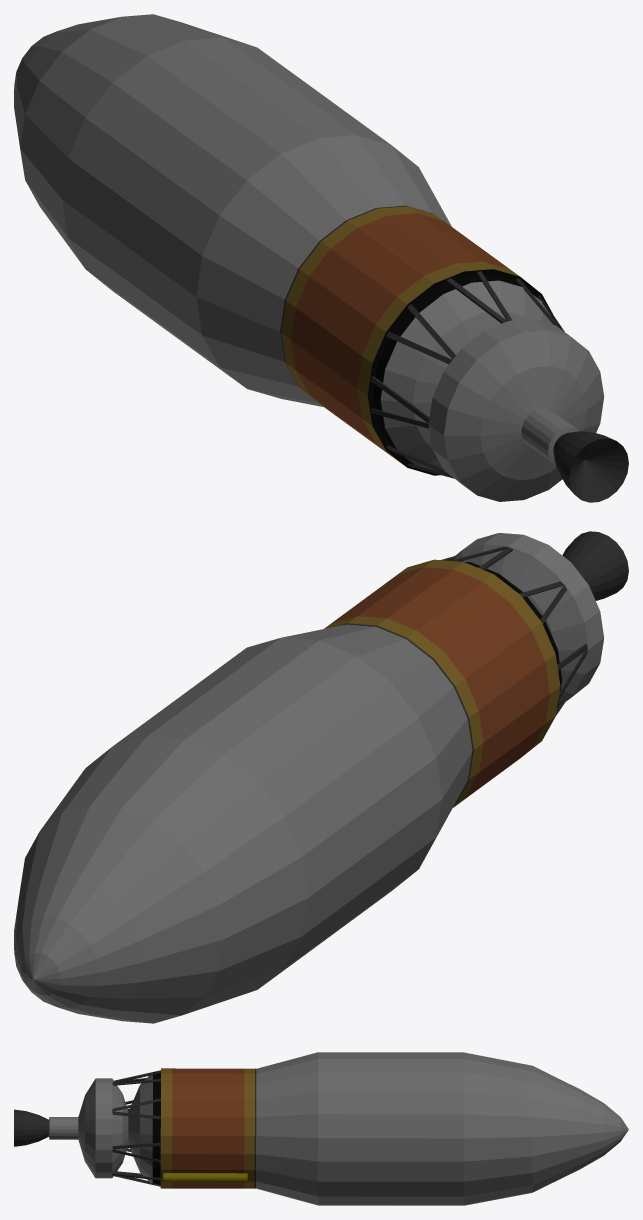
3 renders of one model, top to bottom at view 1: azimuth 30°, elevation 25°; view 2: azimuth 150°, elevation 25°; view 3: azimuth 270°, elevation 25°, orthographic. The views are drawn at different scales.
Visible parts, largest first — view 1: ShapeIndexedFaceSet.008_ShapeIndexedFaceSet.009, ShapeIndexedFaceSet.001_ShapeIndexedFaceSet.002, ShapeIndexedFaceSet.004_ShapeIndexedFaceSet.005, ShapeIndexedFaceSet.007_ShapeIndexedFaceSet.008, ShapeIndexedFaceSet.002_ShapeIndexedFaceSet.003, ShapeIndexedFaceSet.003_ShapeIndexedFaceSet.004, ShapeIndexedFaceSet_ShapeIndexedFaceSet.001; view 2: ShapeIndexedFaceSet.008_ShapeIndexedFaceSet.009, ShapeIndexedFaceSet.007_ShapeIndexedFaceSet.008, ShapeIndexedFaceSet.004_ShapeIndexedFaceSet.005, ShapeIndexedFaceSet.001_ShapeIndexedFaceSet.002, ShapeIndexedFaceSet.003_ShapeIndexedFaceSet.004, ShapeIndexedFaceSet.002_ShapeIndexedFaceSet.003; view 3: ShapeIndexedFaceSet.007_ShapeIndexedFaceSet.008, ShapeIndexedFaceSet.004_ShapeIndexedFaceSet.005, ShapeIndexedFaceSet.001_ShapeIndexedFaceSet.002, ShapeIndexedFaceSet.002_ShapeIndexedFaceSet.003, ShapeIndexedFaceSet.003_ShapeIndexedFaceSet.004, ShapeIndexedFaceSet.008_ShapeIndexedFaceSet.009, ShapeIndexedFaceSet.006_ShapeIndexedFaceSet.007, ShapeIndexedFaceSet_ShapeIndexedFaceSet.001.
Boxes of the visible parts, <box> form: ShapeIndexedFaceSet.008_ShapeIndexedFaceSet.009: <box>14,16,375,406</box>; ShapeIndexedFaceSet.001_ShapeIndexedFaceSet.002: <box>380,280,604,501</box>; ShapeIndexedFaceSet.004_ShapeIndexedFaceSet.005: <box>291,213,508,457</box>; ShapeIndexedFaceSet.007_ShapeIndexedFaceSet.008: <box>122,14,451,226</box>; ShapeIndexedFaceSet.002_ShapeIndexedFaceSet.003: <box>280,205,628,502</box>; ShapeIndexedFaceSet.003_ShapeIndexedFaceSet.004: <box>281,206,519,464</box>; ShapeIndexedFaceSet_ShapeIndexedFaceSet.001: <box>367,269,552,475</box>; ShapeIndexedFaceSet.008_ShapeIndexedFaceSet.009: <box>21,627,472,1023</box>; ShapeIndexedFaceSet.007_ShapeIndexedFaceSet.008: <box>14,624,375,1006</box>; ShapeIndexedFaceSet.004_ShapeIndexedFaceSet.005: <box>331,567,549,807</box>; ShapeIndexedFaceSet.001_ShapeIndexedFaceSet.002: <box>453,533,604,703</box>; ShapeIndexedFaceSet.003_ShapeIndexedFaceSet.004: <box>324,559,560,806</box>; ShapeIndexedFaceSet.002_ShapeIndexedFaceSet.003: <box>339,531,628,805</box>; ShapeIndexedFaceSet.007_ShapeIndexedFaceSet.008: <box>256,1059,620,1205</box>; ShapeIndexedFaceSet.004_ShapeIndexedFaceSet.005: <box>172,1068,244,1188</box>; ShapeIndexedFaceSet.001_ShapeIndexedFaceSet.002: <box>49,1072,152,1183</box>; ShapeIndexedFaceSet.002_ShapeIndexedFaceSet.003: <box>14,1068,256,1188</box>; ShapeIndexedFaceSet.003_ShapeIndexedFaceSet.004: <box>160,1068,254,1188</box>; ShapeIndexedFaceSet.008_ShapeIndexedFaceSet.009: <box>256,1052,628,1141</box>; ShapeIndexedFaceSet.006_ShapeIndexedFaceSet.007: <box>163,1173,247,1182</box>; ShapeIndexedFaceSet_ShapeIndexedFaceSet.001: <box>152,1072,160,1184</box>.
Size of the model in its own units: 3.63 by 3.64 by 14.46.
